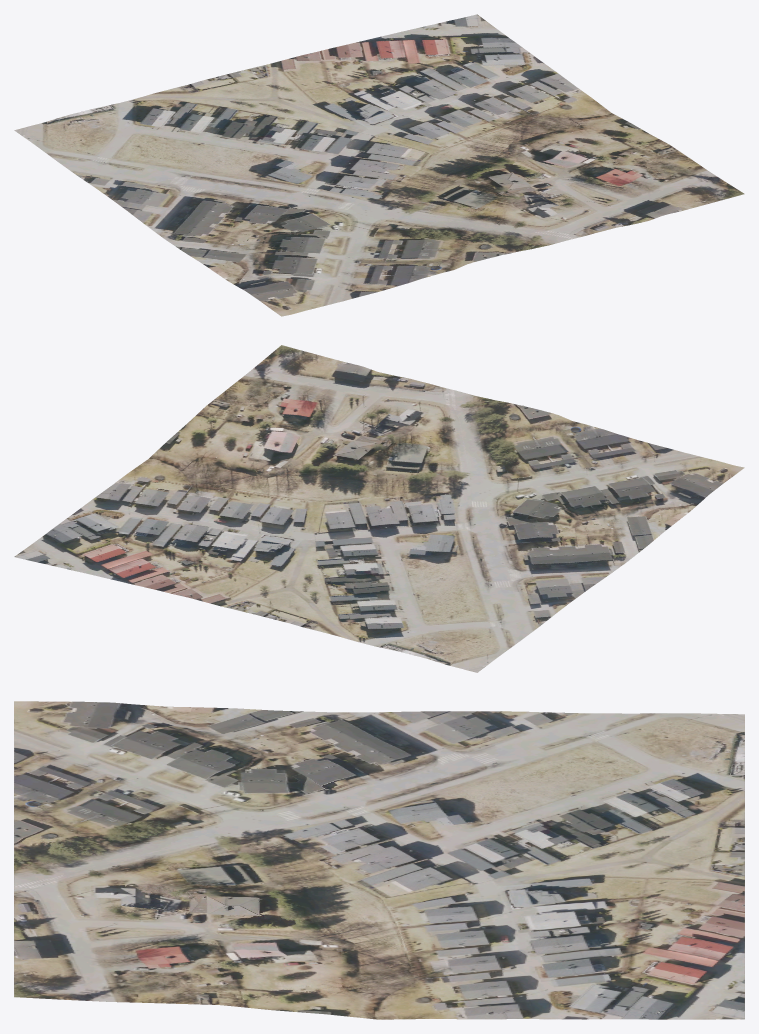
Rendered from CM_Terrain_24490663_6818156.fbx.
The picture shows the model from 3 angles, top to bottom: view 1: azimuth 30°, elevation 25°; view 2: azimuth 150°, elevation 25°; view 3: azimuth 270°, elevation 25°; orthographic projection. The views are drawn at different scales.
Visible parts, largest first — view 1: CM_Terrain_24490663_6818156_LOD0; view 2: CM_Terrain_24490663_6818156_LOD0; view 3: CM_Terrain_24490663_6818156_LOD0.
Boxes of the visible parts, x1=… form: CM_Terrain_24490663_6818156_LOD0: x1=14, y1=14, x2=744, y2=316; CM_Terrain_24490663_6818156_LOD0: x1=14, y1=345, x2=744, y2=672; CM_Terrain_24490663_6818156_LOD0: x1=14, y1=701, x2=744, y2=1019.
Size of what is drawn, in the model's own units: 205 by 8.05 by 205.
